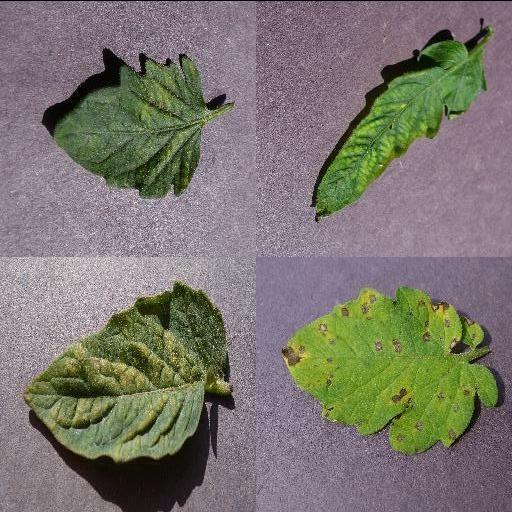Mosaic Virus: (311, 39, 487, 223), (53, 52, 205, 198)
Septoria: (281, 284, 501, 455)
Spider Mites: (20, 280, 230, 460)
